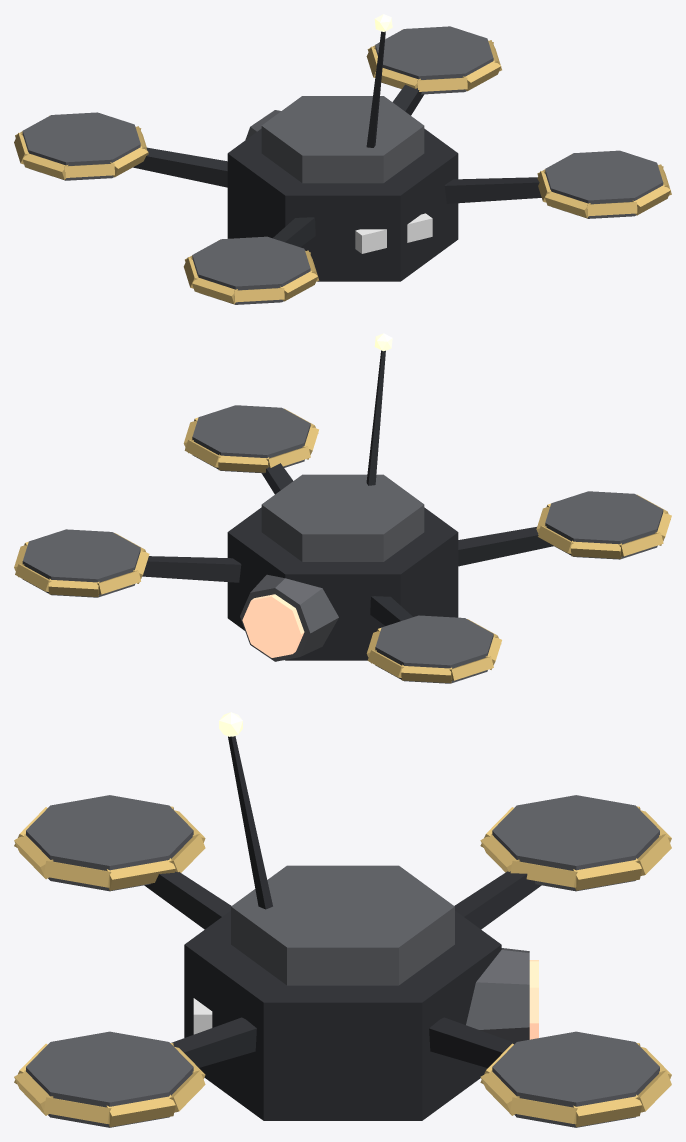
File: Aegis_Watcher.fbx
3 renders of one model, top to bottom at view 1: azimuth 30°, elevation 25°; view 2: azimuth 150°, elevation 25°; view 3: azimuth 270°, elevation 25°, orthographic. The views are drawn at different scales.
Visible parts, largest first — view 1: WAT_Pod, WAT_PodTop, WAT_Rotor1, WAT_Rotor2, WAT_Rotor3, WAT_Rotor0, WAT_Rotor3_Ring, WAT_Rotor2_Ring, WAT_Rotor1_Ring, WAT_Arm2, WAT_Arm1, WAT_Rotor0_Ring (+4 smaller); view 2: WAT_Pod, WAT_PodTop, WAT_Rotor1, WAT_Rotor0, WAT_Rotor3, WAT_Rotor2, WAT_Lens, WAT_Eye, WAT_Rotor3_Ring, WAT_Rotor0_Ring, WAT_Rotor1_Ring, WAT_Arm0 (+5 smaller); view 3: WAT_Pod, WAT_PodTop, WAT_Rotor2, WAT_Rotor0, WAT_Rotor3, WAT_Rotor1, WAT_Lens, WAT_Rotor0_Ring, WAT_Rotor2_Ring, WAT_Rotor1_Ring, WAT_Rotor3_Ring, WAT_Arm0 (+5 smaller).
Part boxes in pixels (<box>): WAT_Pod: <box>227,128,458,281</box>; WAT_PodTop: <box>261,96,424,183</box>; WAT_Rotor1: <box>22,112,140,180</box>; WAT_Rotor2: <box>545,150,663,218</box>; WAT_Rotor3: <box>192,236,310,304</box>; WAT_Rotor0: <box>375,26,493,94</box>; WAT_Rotor3_Ring: <box>183,250,319,304</box>; WAT_Rotor2_Ring: <box>537,154,671,218</box>; WAT_Rotor1_Ring: <box>14,115,148,179</box>; WAT_Arm2: <box>444,177,541,203</box>; WAT_Arm1: <box>133,147,227,187</box>; WAT_Rotor0_Ring: <box>366,40,501,91</box>; WAT_Pod: <box>227,507,458,660</box>; WAT_PodTop: <box>261,474,424,561</box>; WAT_Rotor1: <box>375,615,493,683</box>; WAT_Rotor0: <box>22,529,140,597</box>; WAT_Rotor3: <box>545,491,663,559</box>; WAT_Rotor2: <box>192,405,310,473</box>; WAT_Lens: <box>240,574,338,661</box>; WAT_Eye: <box>242,594,304,657</box>; WAT_Rotor3_Ring: <box>536,494,671,558</box>; WAT_Rotor0_Ring: <box>14,533,149,597</box>; WAT_Rotor1_Ring: <box>366,619,501,683</box>; WAT_Arm0: <box>142,556,241,582</box>; WAT_Pod: <box>184,911,501,1120</box>; WAT_PodTop: <box>231,865,454,985</box>; WAT_Rotor2: <box>26,1031,193,1127</box>; WAT_Rotor0: <box>492,1031,659,1127</box>; WAT_Rotor3: <box>26,795,193,891</box>; WAT_Rotor1: <box>492,795,659,891</box>; WAT_Lens: <box>466,948,529,1042</box>; WAT_Rotor0_Ring: <box>480,1043,671,1126</box>; WAT_Rotor2_Ring: <box>14,1043,205,1126</box>; WAT_Rotor1_Ring: <box>480,806,671,890</box>; WAT_Rotor3_Ring: <box>14,806,205,890</box>; WAT_Arm0: <box>429,1017,515,1067</box>.
Bounding box in the file's own units: 0.8054 × 0.415 × 0.7054.
